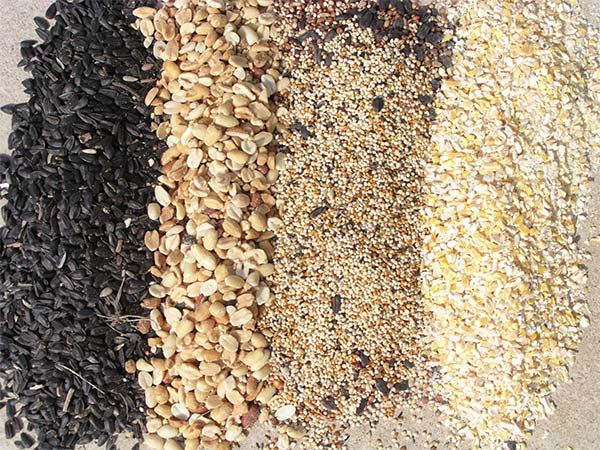seed: (1, 1, 600, 450)
